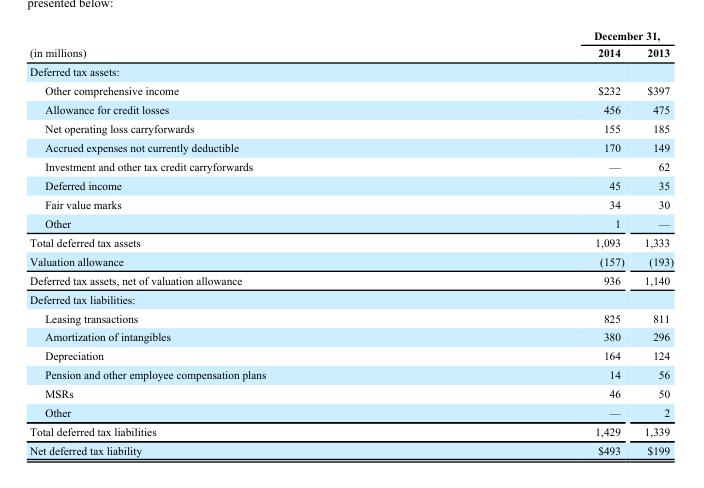table: (29, 28, 672, 456)
table column: (29, 28, 429, 456), (429, 28, 633, 456), (633, 28, 672, 456)
table column header: (29, 28, 672, 62)
table projected row header: (29, 289, 672, 308), (29, 62, 672, 80)
table row: (29, 43, 672, 62), (29, 80, 672, 99), (29, 99, 672, 118), (29, 118, 672, 137), (29, 137, 672, 156), (29, 156, 672, 175), (29, 175, 672, 194), (29, 194, 672, 213), (29, 213, 672, 232), (29, 232, 672, 251), (29, 251, 672, 270), (29, 270, 672, 289), (29, 289, 672, 308), (29, 308, 672, 327), (29, 327, 672, 346), (29, 346, 672, 365), (29, 383, 672, 402), (29, 402, 672, 421), (29, 421, 672, 440), (29, 62, 672, 80), (29, 365, 672, 383), (29, 440, 672, 456), (29, 28, 672, 43)
table spanning cell: (29, 28, 429, 62), (429, 28, 672, 43)
